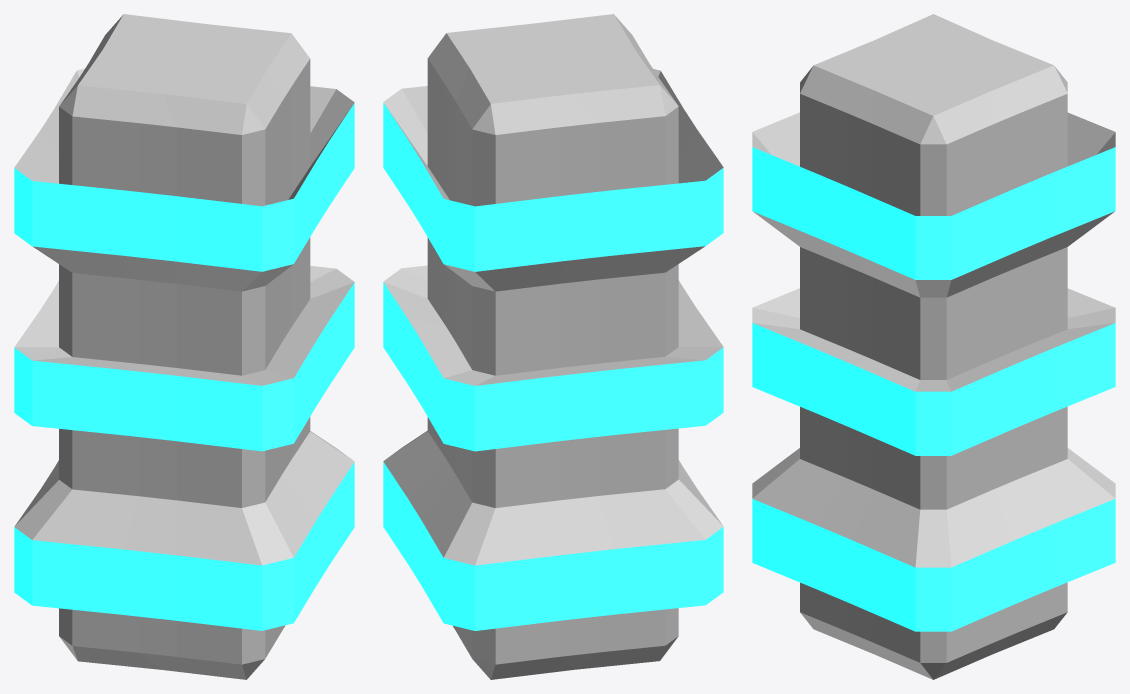
Rendered from cool tutorial thing.fbx.
3 renders of one model, left to right at view 1: azimuth 30°, elevation 25°; view 2: azimuth 150°, elevation 25°; view 3: azimuth 270°, elevation 25°, orthographic. The views are drawn at different scales.
Visible parts, largest first — view 1: Cube; view 2: Cube; view 3: Cube.
Part boxes in pixels (x1,y1,x2,y2): Cube: [14, 14, 354, 679]; Cube: [383, 14, 723, 679]; Cube: [752, 14, 1115, 679].
Size of the model in its own units: 499 by 851 by 497.
